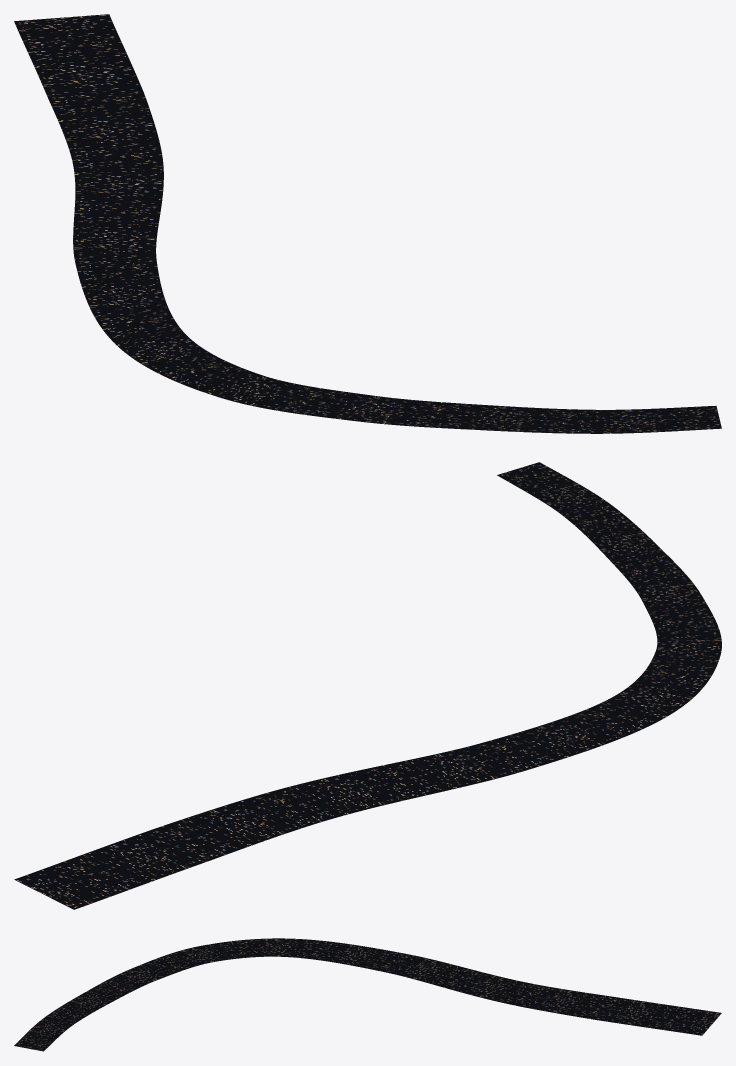
Rendered from earth_river.glb.
The picture shows the model from 3 angles, top to bottom: view 1: azimuth 30°, elevation 25°; view 2: azimuth 150°, elevation 25°; view 3: azimuth 270°, elevation 25°; orthographic projection. The views are drawn at different scales.
Parts seen in each view (by area): view 1: EarthRiver; view 2: EarthRiver; view 3: EarthRiver.
Boxes of the visible parts, bbox=[...] form: EarthRiver: bbox=[14, 14, 721, 433]; EarthRiver: bbox=[14, 462, 721, 909]; EarthRiver: bbox=[14, 938, 721, 1051].
Size of the model in its own units: 511 by 0 by 1352.
1 material, 1 textured.
